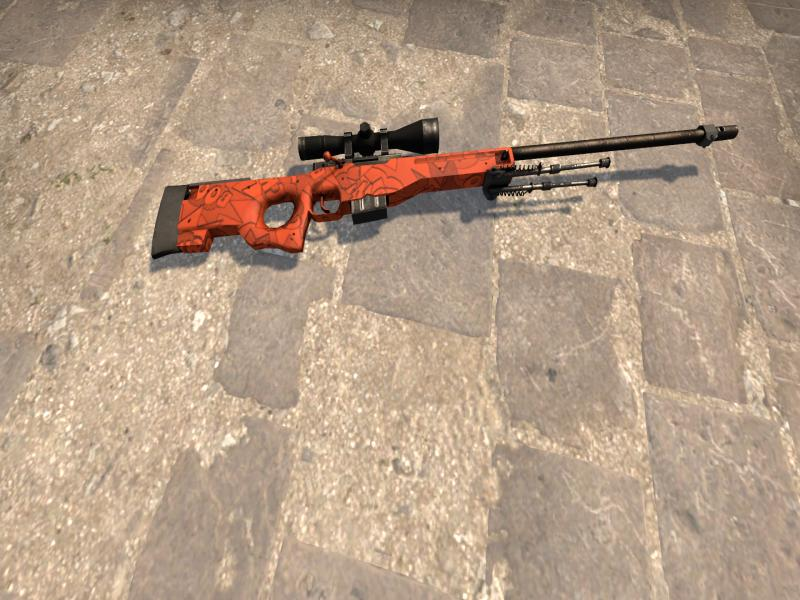AWP: (99, 97, 764, 275)
